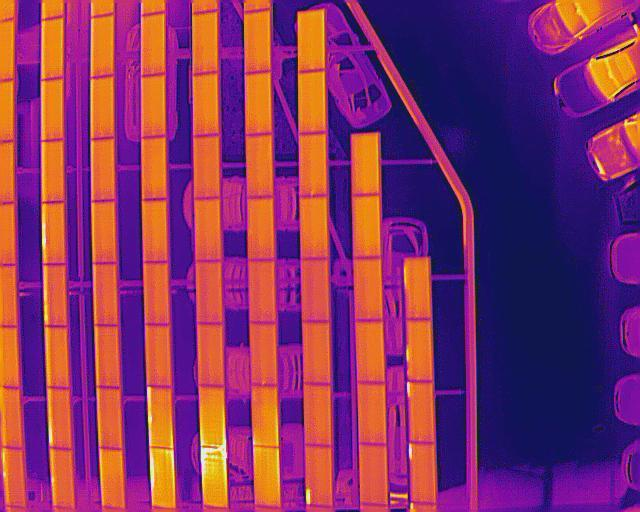Cell: (406, 319, 433, 381), (0, 447, 27, 508), (50, 446, 76, 509)
No-Anomaly: (356, 320, 386, 384), (354, 257, 384, 321), (253, 444, 282, 509), (143, 324, 172, 388), (300, 195, 329, 259), (358, 381, 387, 445), (249, 258, 277, 324), (252, 383, 280, 449), (194, 198, 223, 260), (298, 72, 327, 134), (143, 261, 171, 325), (404, 256, 432, 320), (246, 133, 274, 197), (300, 132, 328, 196), (303, 383, 331, 447), (197, 322, 224, 388), (250, 321, 277, 387), (302, 321, 330, 384), (353, 195, 381, 258), (193, 135, 221, 198), (142, 199, 169, 264), (302, 260, 330, 322), (245, 72, 273, 134), (196, 261, 223, 325), (360, 443, 387, 507), (194, 70, 220, 136), (298, 10, 326, 71), (91, 201, 118, 264), (352, 134, 380, 194), (45, 323, 70, 390), (248, 197, 275, 259), (95, 325, 121, 389), (94, 262, 120, 326), (97, 386, 123, 450), (91, 138, 117, 201), (43, 263, 68, 328), (100, 448, 126, 510), (141, 73, 166, 137), (142, 138, 167, 201), (246, 10, 271, 72), (91, 15, 115, 78), (141, 12, 165, 75), (0, 385, 24, 448), (91, 77, 115, 139), (194, 11, 218, 73), (41, 139, 64, 203), (41, 78, 64, 141), (42, 16, 64, 77)
Unclassified: (305, 444, 333, 507), (198, 384, 226, 447), (201, 446, 229, 508), (409, 442, 437, 504), (407, 382, 435, 444), (147, 385, 173, 449), (150, 446, 176, 508), (42, 200, 66, 265), (47, 388, 72, 450)
